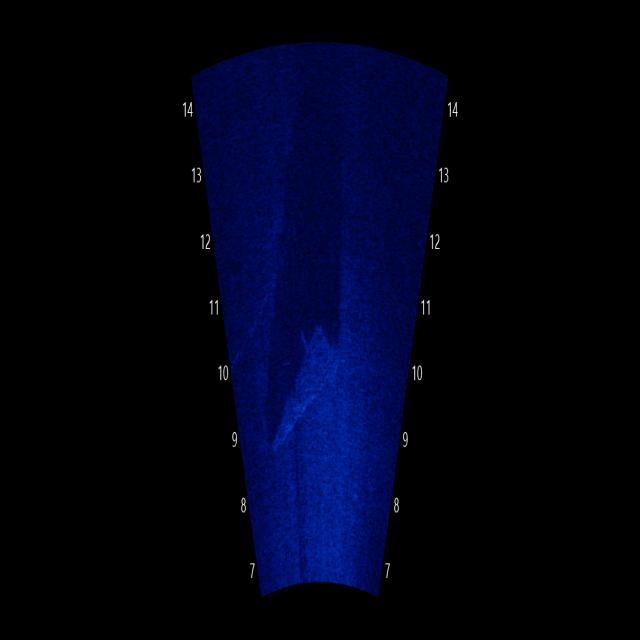triangle: (270, 305, 339, 462)
